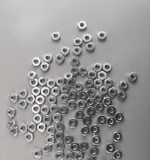nut: (106, 143, 116, 154), (113, 132, 123, 143), (33, 149, 43, 160), (27, 122, 37, 133), (25, 94, 35, 105), (106, 116, 116, 127), (115, 113, 125, 123), (118, 91, 128, 101), (119, 81, 129, 91), (89, 147, 99, 157), (64, 136, 74, 146), (24, 133, 34, 143), (18, 124, 28, 134), (31, 104, 41, 114), (6, 108, 16, 118), (68, 118, 78, 128), (55, 122, 65, 132), (46, 136, 56, 146), (90, 125, 100, 135), (70, 57, 80, 67), (78, 21, 88, 31), (6, 120, 16, 130), (107, 106, 117, 116), (9, 93, 18, 104), (50, 104, 59, 115), (59, 105, 68, 116), (43, 144, 52, 155), (98, 115, 107, 126), (129, 73, 138, 83), (55, 55, 65, 64), (33, 114, 42, 124), (37, 123, 46, 133), (41, 87, 50, 97), (60, 94, 69, 104), (75, 110, 84, 120), (81, 126, 90, 136), (92, 136, 101, 146), (109, 88, 118, 98), (95, 103, 104, 113), (85, 79, 94, 89), (75, 83, 84, 93), (79, 67, 88, 77), (100, 86, 109, 96), (78, 100, 87, 110), (68, 100, 77, 110), (69, 91, 78, 101), (52, 87, 61, 97), (38, 77, 48, 86), (27, 71, 37, 80), (40, 63, 50, 72), (9, 127, 18, 137), (93, 63, 103, 72), (80, 142, 89, 152), (47, 79, 56, 89), (55, 142, 65, 151), (87, 89, 97, 98), (44, 115, 53, 125), (18, 89, 27, 99), (95, 103, 105, 112), (48, 96, 57, 106), (53, 113, 62, 123), (94, 94, 104, 103), (113, 151, 122, 160), (32, 57, 41, 66), (29, 78, 38, 87), (44, 54, 53, 63), (52, 32, 61, 41), (61, 47, 70, 56), (86, 42, 95, 51), (103, 63, 112, 72), (56, 78, 65, 87), (105, 79, 114, 88), (36, 96, 45, 105), (94, 79, 103, 88), (98, 71, 107, 80), (87, 107, 96, 116), (65, 73, 74, 82), (87, 98, 96, 107), (46, 126, 55, 135), (41, 106, 50, 115), (64, 152, 74, 160), (75, 152, 85, 160), (55, 152, 65, 160), (99, 31, 107, 41), (103, 98, 113, 106), (71, 67, 80, 75), (19, 100, 27, 109), (73, 47, 82, 55), (74, 38, 83, 46), (83, 117, 92, 125), (79, 91, 87, 100), (56, 133, 65, 141), (62, 85, 70, 94), (33, 87, 41, 96), (84, 34, 92, 42), (89, 71, 97, 79), (71, 144, 78, 151), (87, 157, 96, 160)
